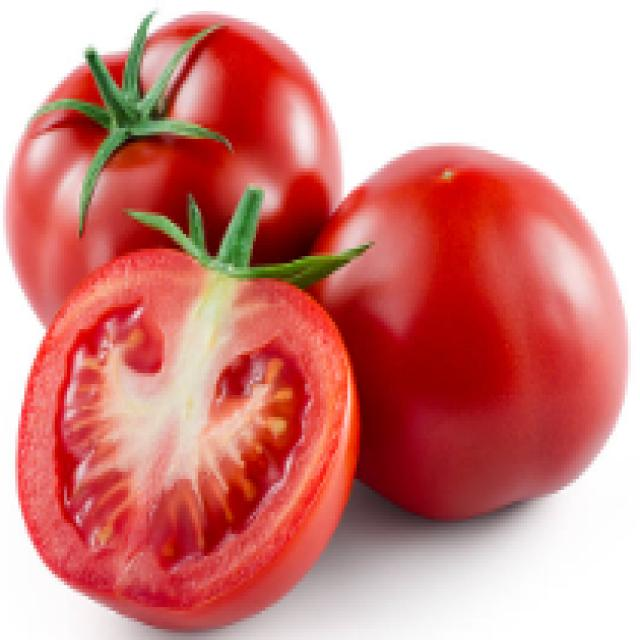Tomato: (24, 209, 361, 632), (12, 16, 334, 310)
